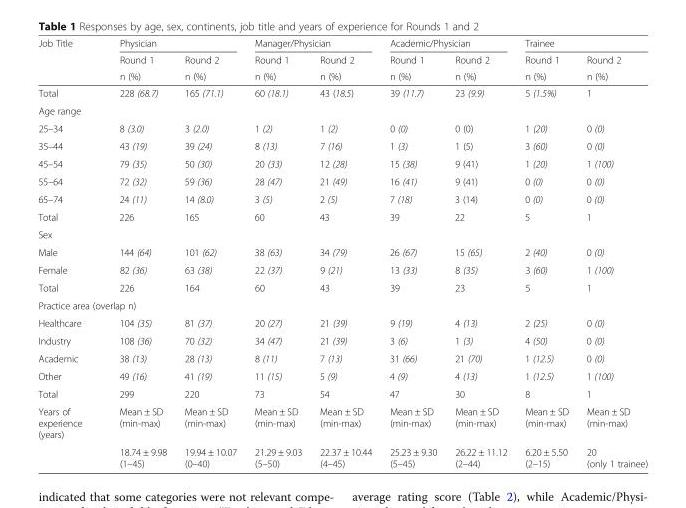table: (37, 37, 647, 468)
table column: (100, 37, 174, 468), (576, 37, 647, 468), (174, 37, 244, 468), (310, 37, 380, 468), (445, 37, 515, 468), (244, 37, 310, 468), (380, 37, 445, 468), (37, 37, 100, 468), (515, 37, 576, 468)
table column header: (37, 37, 647, 84)
table projected row header: (37, 101, 647, 119), (37, 225, 647, 243), (37, 296, 647, 313)
table row: (37, 402, 647, 442), (37, 442, 647, 468), (37, 101, 647, 119), (37, 136, 647, 154), (37, 154, 647, 172), (37, 189, 647, 207), (37, 207, 647, 225), (37, 225, 647, 243), (37, 260, 647, 278), (37, 278, 647, 296), (37, 313, 647, 331), (37, 331, 647, 349), (37, 366, 647, 384), (37, 384, 647, 402), (37, 67, 647, 84), (37, 84, 647, 101), (37, 119, 647, 136), (37, 172, 647, 189), (37, 243, 647, 260), (37, 296, 647, 313), (37, 349, 647, 366), (37, 51, 647, 67), (37, 37, 647, 51)
table spanning cell: (37, 402, 100, 468), (37, 37, 100, 84), (100, 51, 174, 84), (576, 51, 647, 84), (174, 51, 244, 84), (310, 51, 380, 84), (445, 51, 515, 84), (244, 51, 310, 84), (380, 51, 445, 84), (100, 37, 244, 51), (515, 51, 576, 84), (244, 37, 380, 51), (380, 37, 515, 51), (515, 37, 647, 51)
